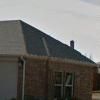Chimney: (63, 34, 79, 55)
